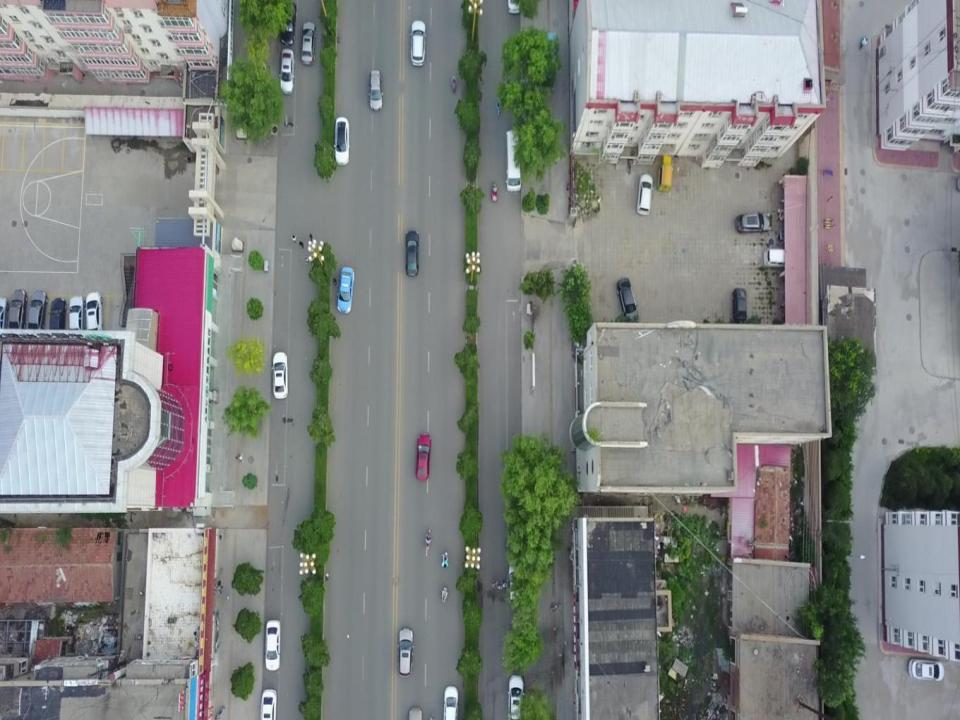car: (616, 277, 639, 323), (85, 292, 104, 340), (8, 288, 27, 334), (735, 210, 772, 233), (265, 619, 281, 671), (49, 298, 67, 344), (334, 115, 350, 166), (410, 20, 427, 67), (337, 268, 354, 314), (398, 628, 414, 676), (272, 352, 288, 399), (69, 296, 86, 340), (280, 2, 297, 46), (279, 49, 294, 94), (637, 173, 653, 215), (416, 433, 430, 480), (508, 675, 523, 718), (302, 21, 316, 64), (732, 287, 747, 326), (406, 229, 419, 274), (369, 70, 383, 111), (443, 685, 458, 719), (509, 564, 523, 600), (260, 689, 276, 718)
van: (506, 131, 522, 192), (764, 250, 791, 268)
